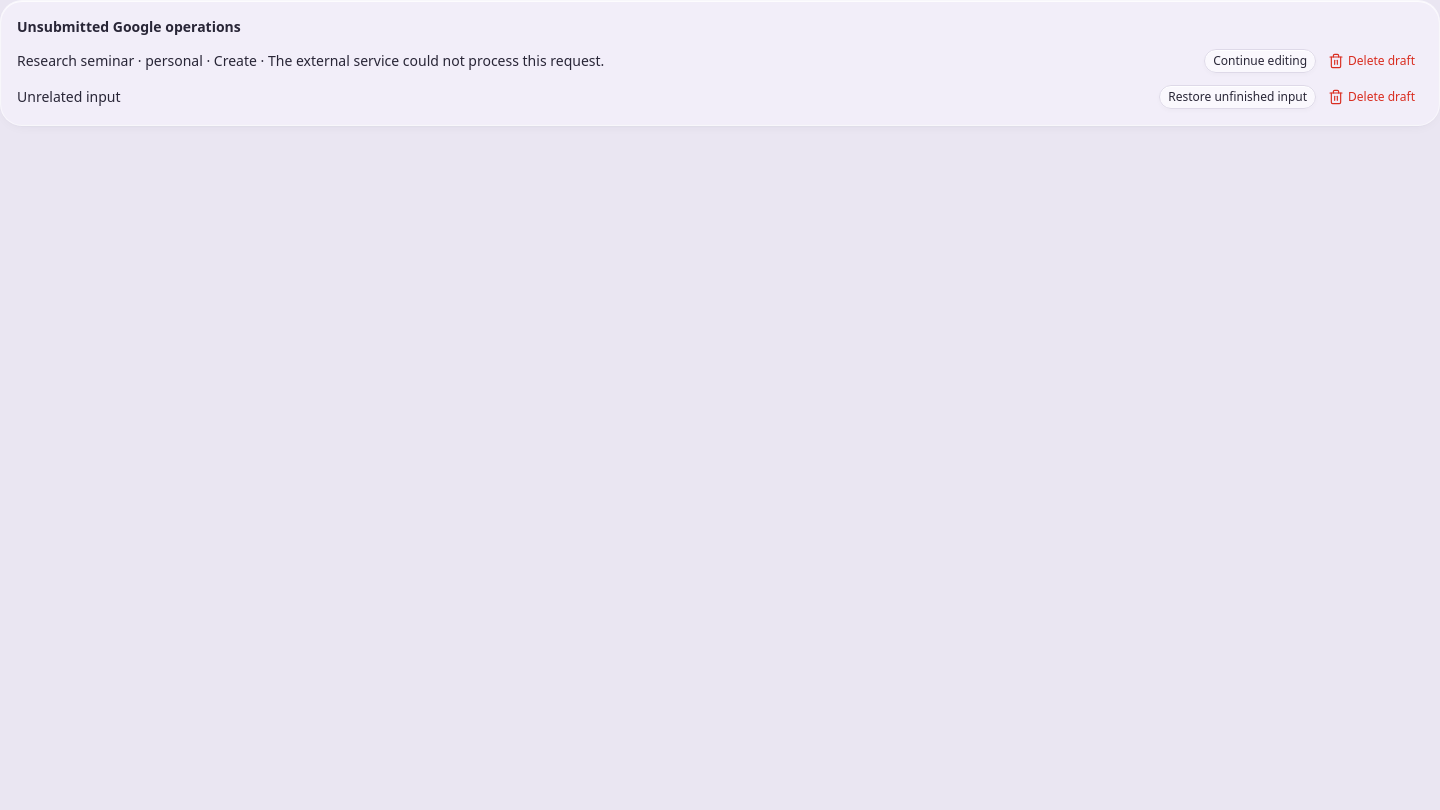
Test: calendar draft deletion › preserves recovery input belonging to another draft
Click the button "Delete draft" in the row of "Research seminar" at (1372, 61), box [1320, 49, 1423, 73]
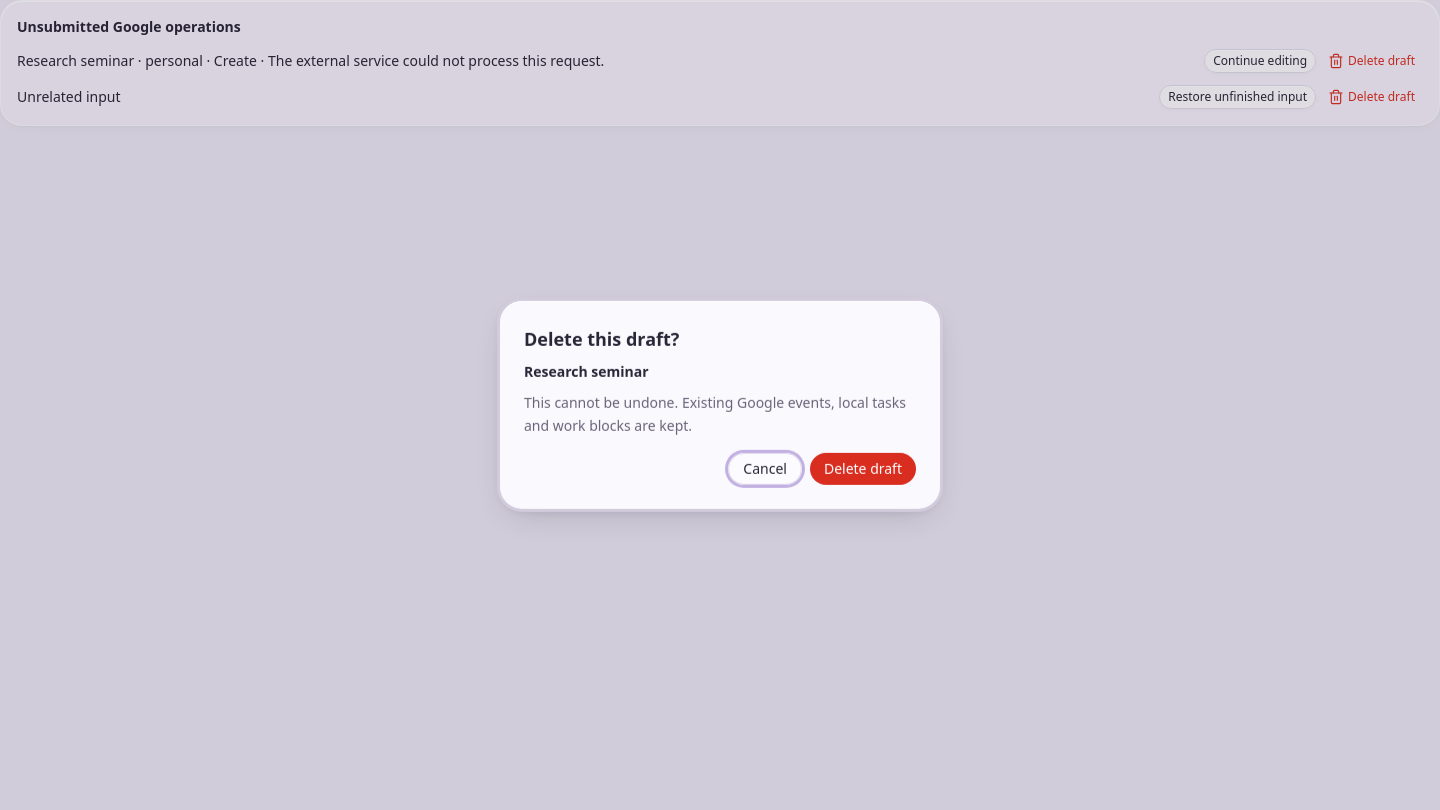
Click the button "Delete draft" at (863, 469), box [810, 453, 916, 485]
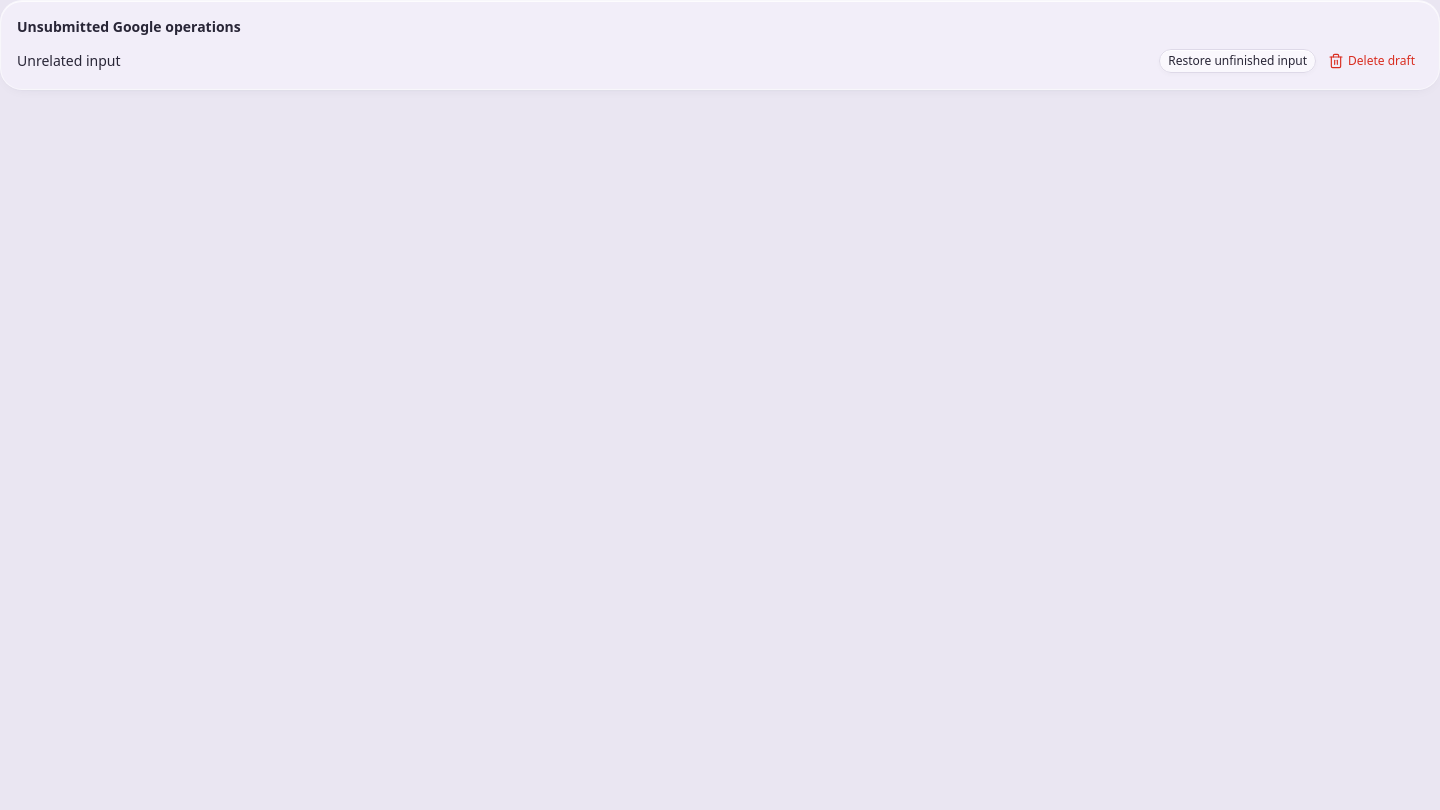
expect the button "Restore unfinished input" is shown: met, box [1159, 49, 1316, 73]
expect the dialog is gone: met
